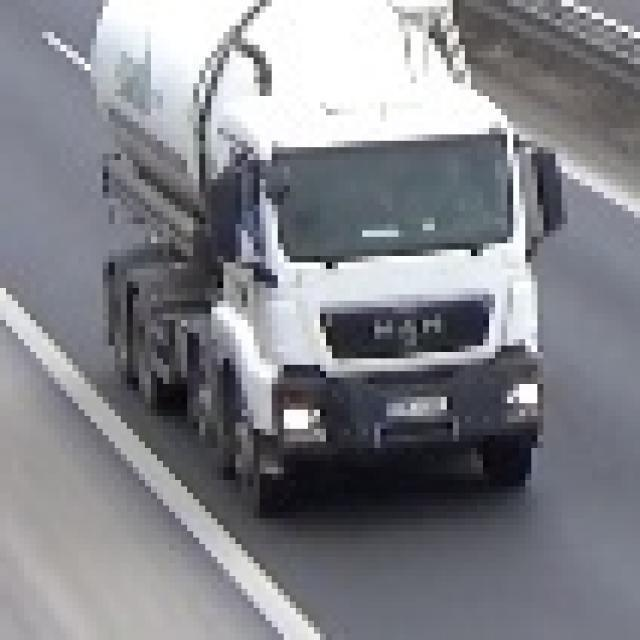Truck: (103, 0, 562, 506)
